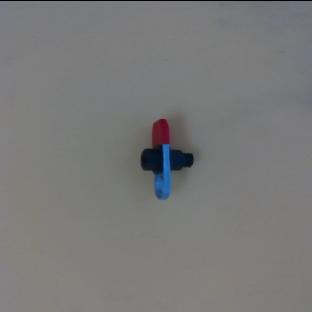part_1_good: (120, 115, 204, 202)
